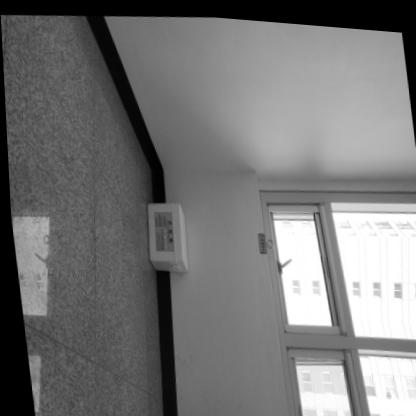DDL: (140, 195, 189, 272)
